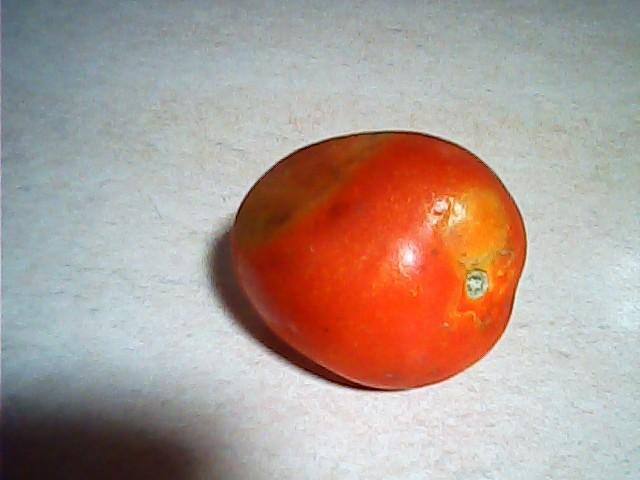verde: (227, 129, 535, 395)
